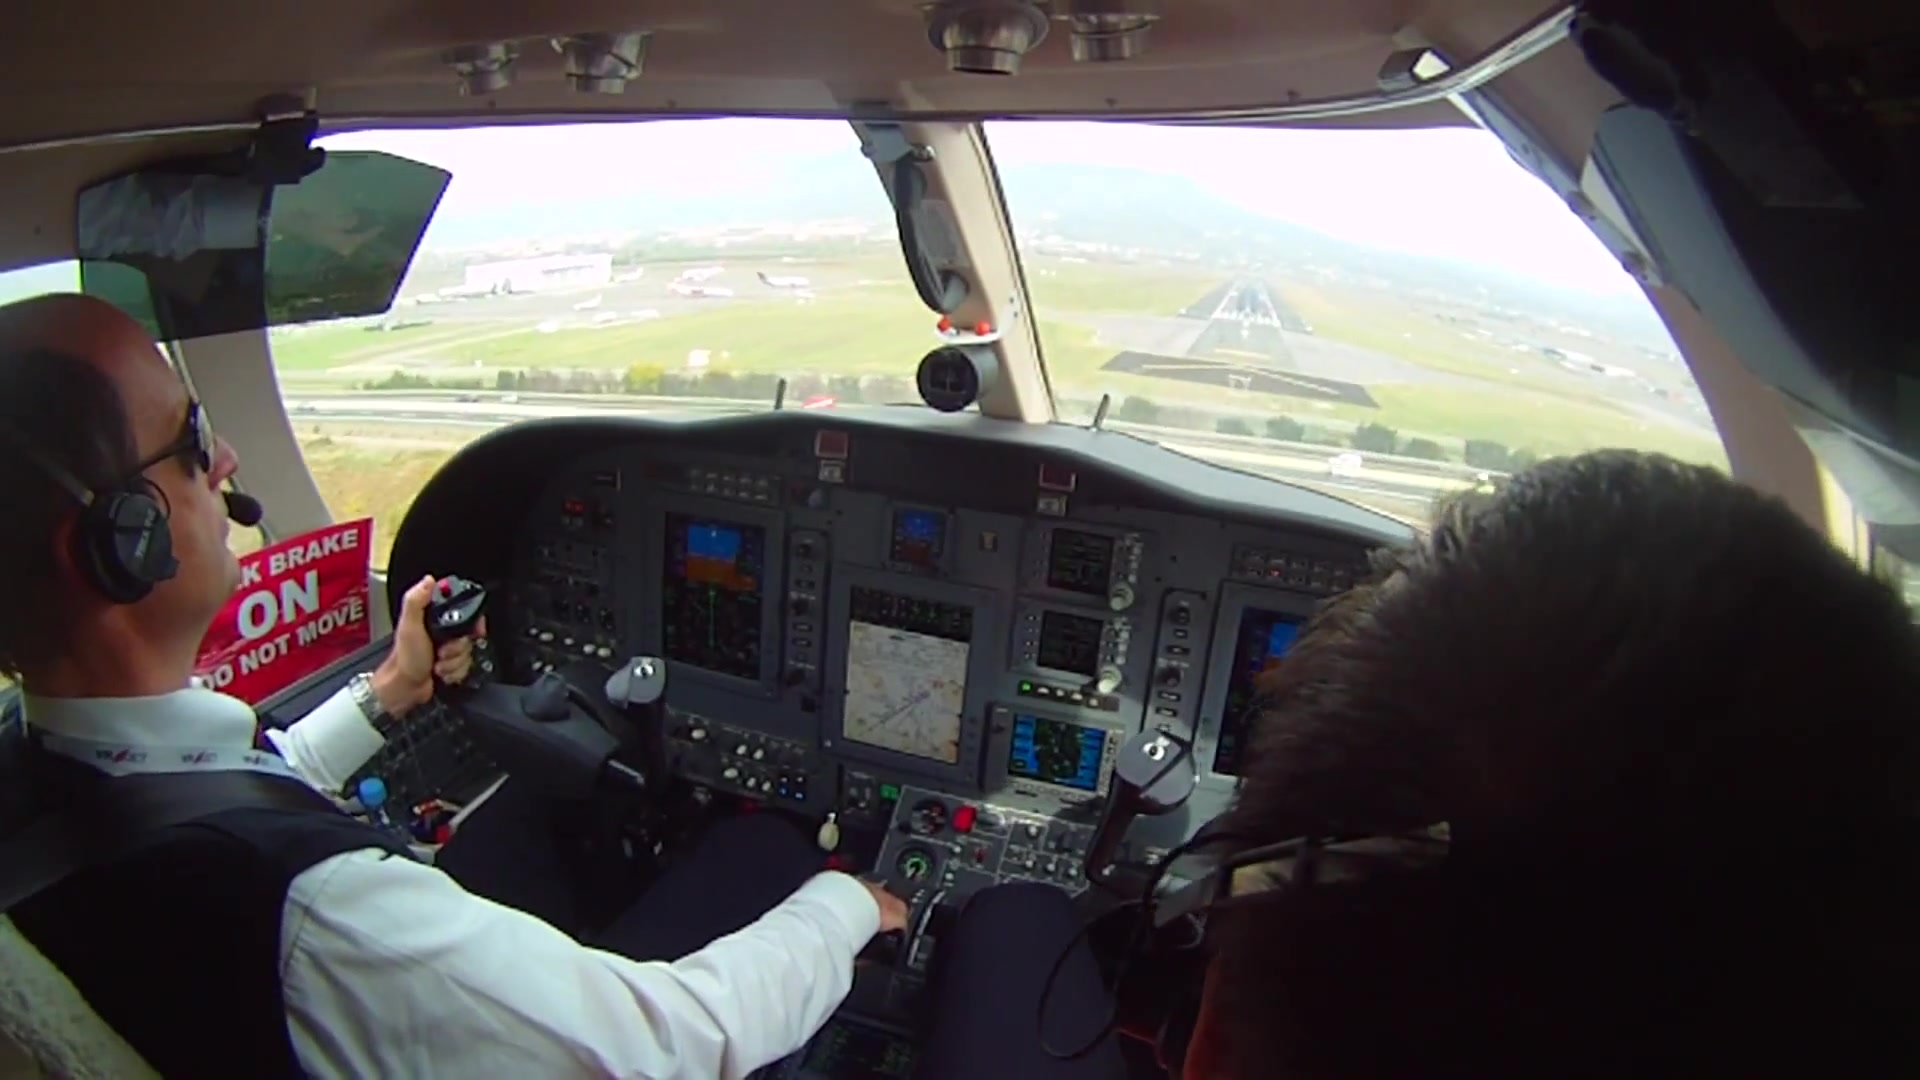entrance: (1215, 310, 1279, 324)
runway: (1215, 262, 1280, 326)
